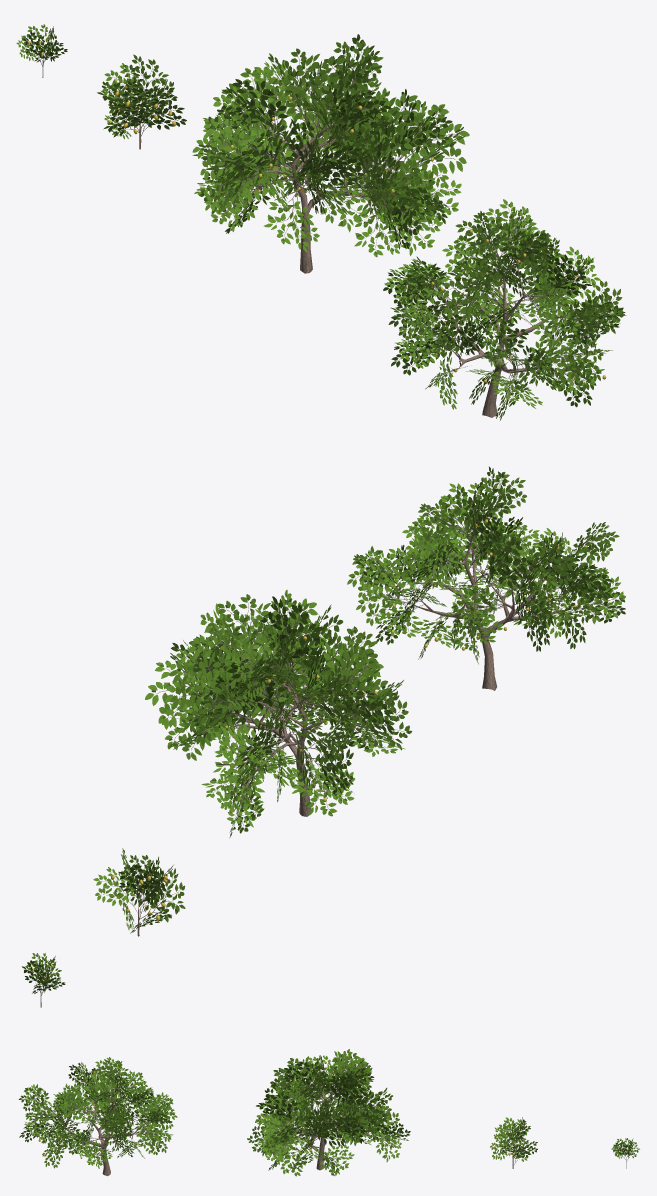
File: Lemon Trees With Fruits.obj
3 renders of one model, top to bottom at view 1: azimuth 30°, elevation 25°; view 2: azimuth 150°, elevation 25°; view 3: azimuth 270°, elevation 25°, orthographic. The views are drawn at different scales.
Parts seen in each view (by area): view 1: Lemon_Tree_3_Untitled, Lemon_Tree_4_Plane.002, Lemon_Tree_2_Circle, Lemon_Tree_1_Circle.001; view 2: Lemon_Tree_3_Untitled, Lemon_Tree_4_Plane.002, Lemon_Tree_2_Circle, Lemon_Tree_1_Circle.001; view 3: Lemon_Tree_3_Untitled, Lemon_Tree_4_Plane.002, Lemon_Tree_2_Circle, Lemon_Tree_1_Circle.001.
Boxes of the visible parts, box(x1,y1,x2,y2) form: Lemon_Tree_3_Untitled: box(192, 34, 469, 273); Lemon_Tree_4_Plane.002: box(383, 199, 626, 420); Lemon_Tree_2_Circle: box(97, 54, 186, 149); Lemon_Tree_1_Circle.001: box(16, 24, 67, 77); Lemon_Tree_3_Untitled: box(145, 590, 412, 837); Lemon_Tree_4_Plane.002: box(347, 466, 625, 690); Lemon_Tree_2_Circle: box(93, 848, 185, 936); Lemon_Tree_1_Circle.001: box(22, 953, 65, 1007); Lemon_Tree_3_Untitled: box(247, 1049, 410, 1176); Lemon_Tree_4_Plane.002: box(18, 1057, 177, 1176); Lemon_Tree_2_Circle: box(490, 1117, 537, 1168); Lemon_Tree_1_Circle.001: box(611, 1138, 639, 1168).
Bounding box in the file's own units: 4.48 × 3.63 × 14.71.
Materials: 2 (2 with a texture image).
